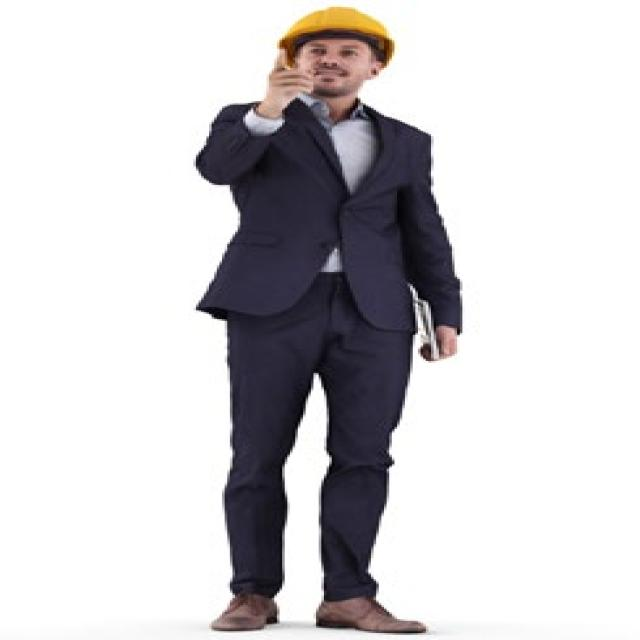standing: (193, 6, 479, 634)
